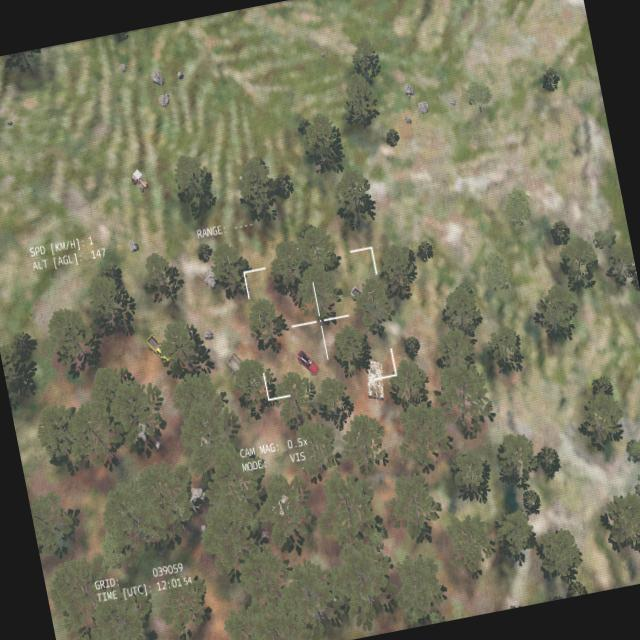car: (142, 326, 177, 370), (291, 340, 326, 380), (348, 284, 374, 314)
tank: (361, 358, 388, 412)
truck: (226, 349, 262, 393)
